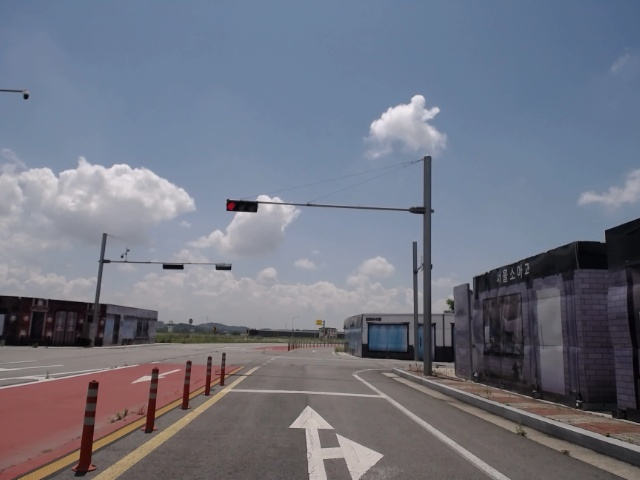red_3: (224, 200, 258, 213)
